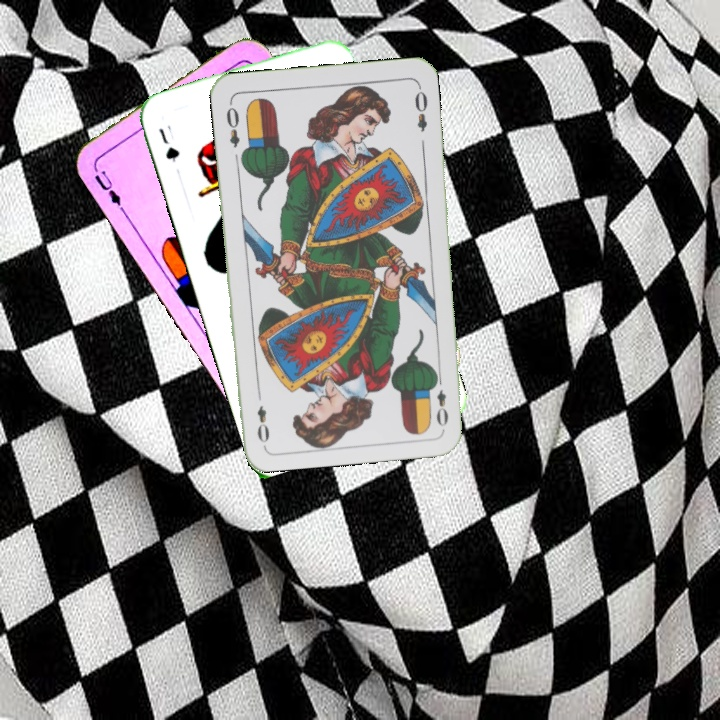EO: (429, 371, 451, 429), (222, 98, 242, 150)
EU: (90, 166, 125, 212)
GU: (154, 124, 183, 165)
